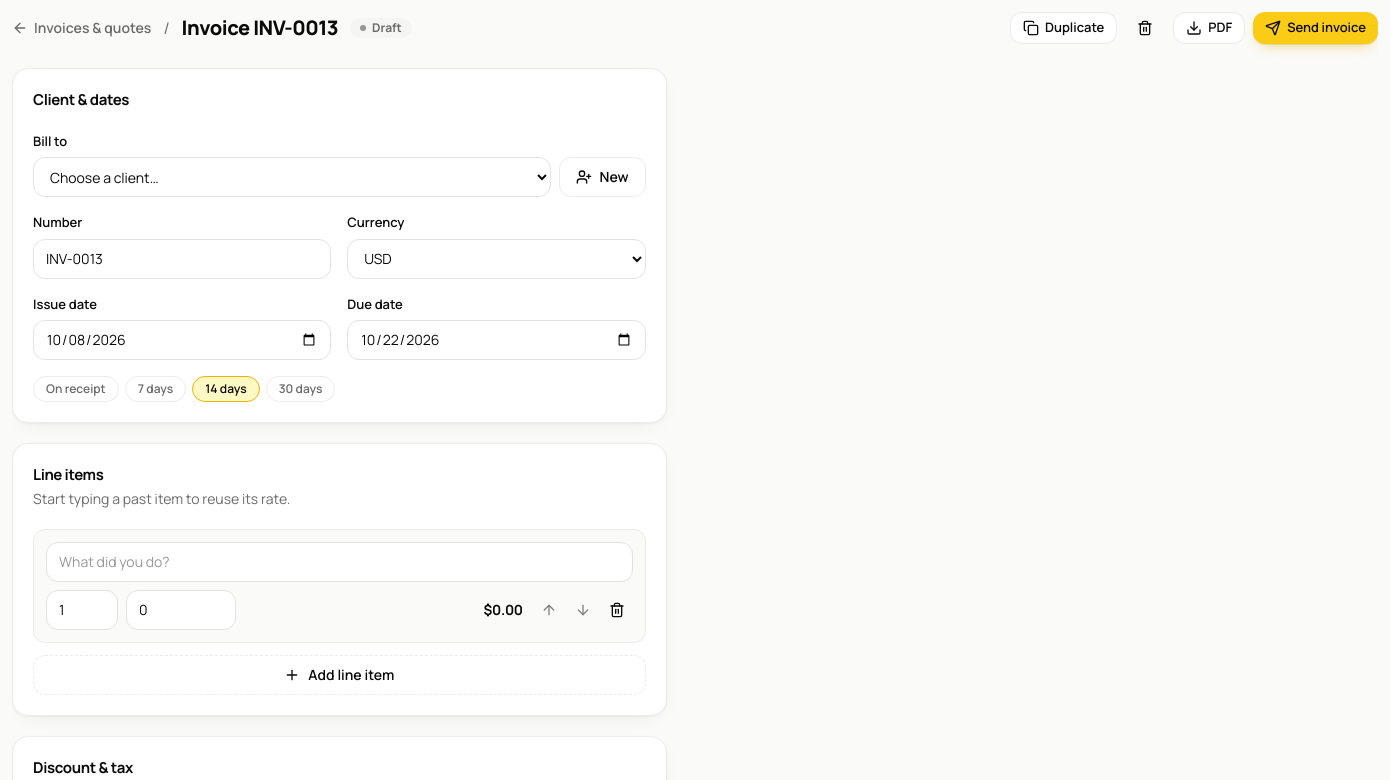
Test: Editor › reuses the rate of a past item with the same description
Type "Website care plan (monthly)" into the field named "Item 1 description". click: (339, 562)
box: [46,542,633,582]
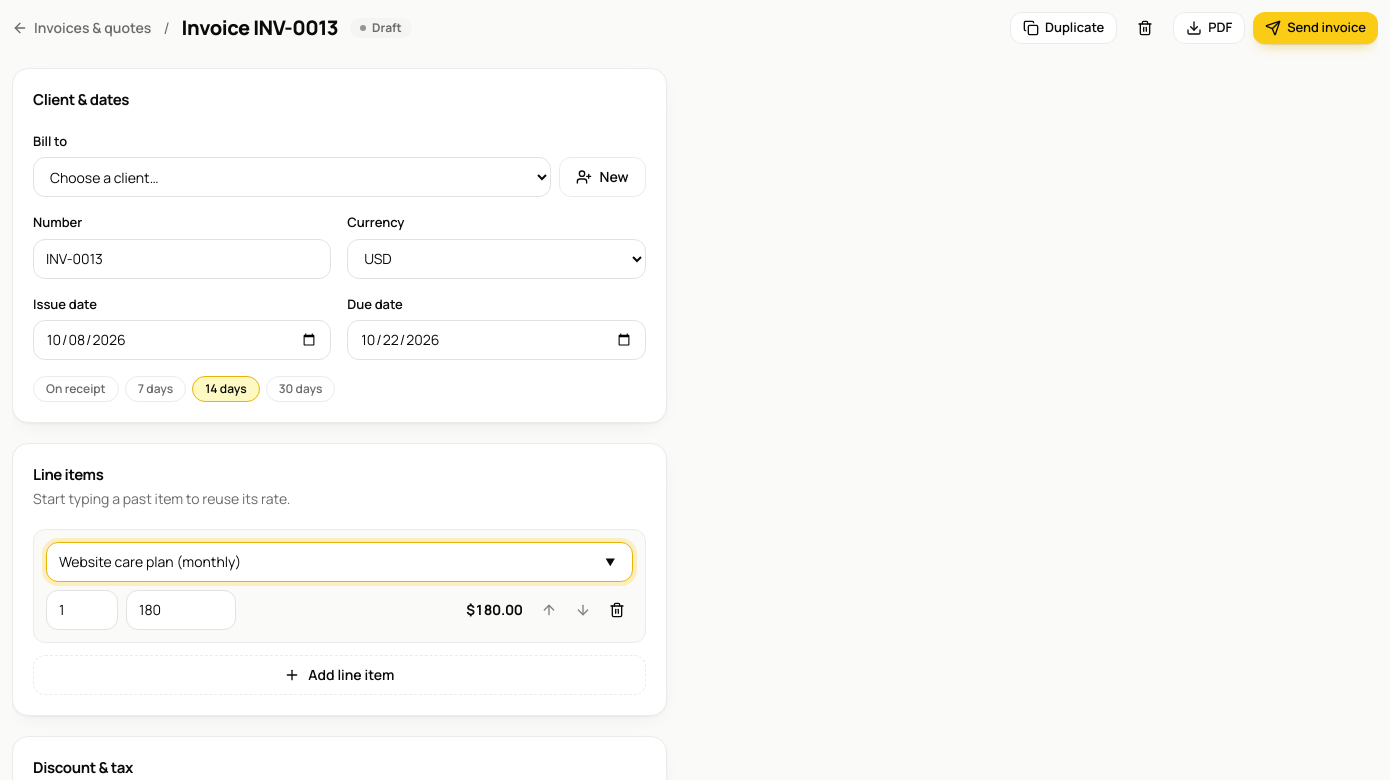
Result: the number field named "Item 1 rate" holds "180" at [126,590,236,630]
